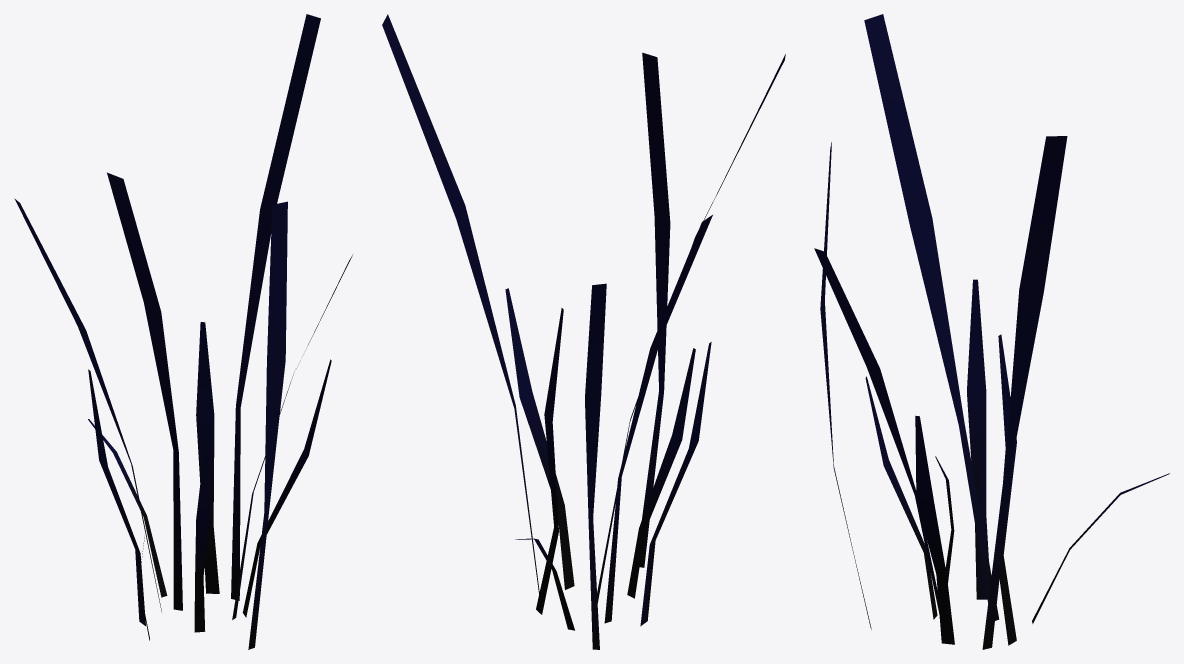
File: SM_Foliage_ReedDry_05.fbx
3 views of the same model, side by side, from view 1: azimuth 30°, elevation 25°; view 2: azimuth 150°, elevation 25°; view 3: azimuth 270°, elevation 25° (orthographic). The views are drawn at different scales.
Visible parts, largest first — view 1: SM_Foliage_ReedDry_05; view 2: SM_Foliage_ReedDry_05; view 3: SM_Foliage_ReedDry_05.
Part boxes in pixels (<box>): SM_Foliage_ReedDry_05: <box>14,14,352,649</box>; SM_Foliage_ReedDry_05: <box>382,14,785,649</box>; SM_Foliage_ReedDry_05: <box>814,14,1169,649</box>.
Size of the model in its own units: 88.77 by 84.95 by 151.
